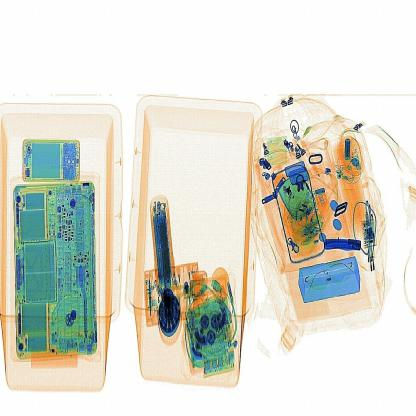knife: (323, 236, 363, 258)
